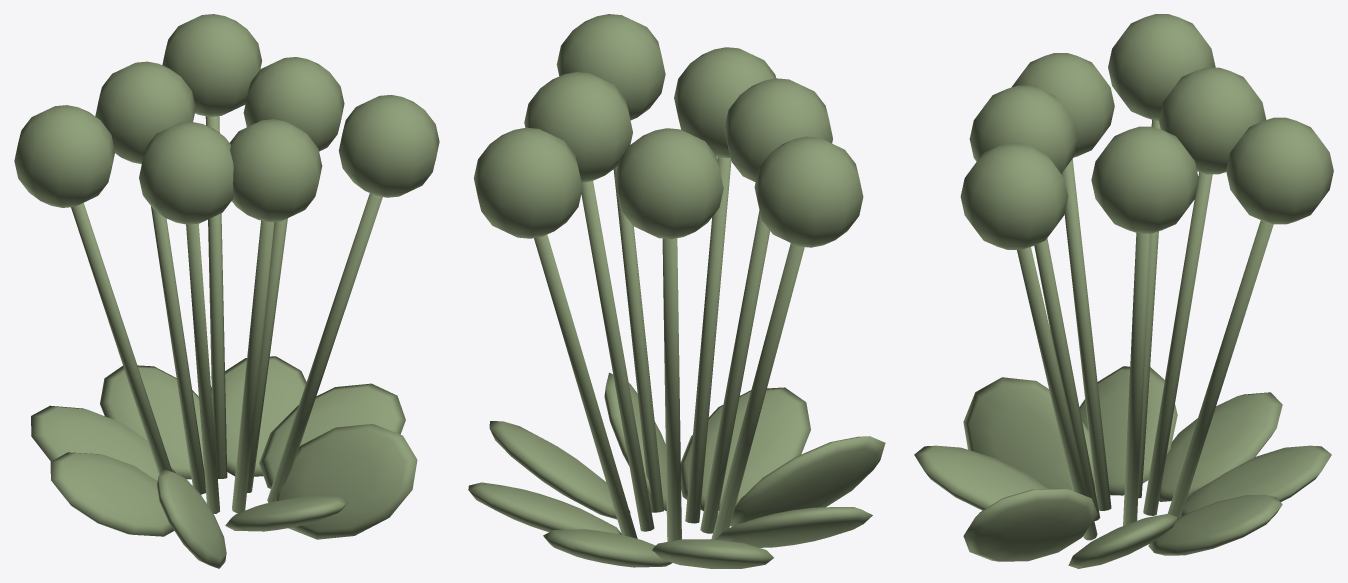
File: flowers_17.glb
3 renders of one model, left to right at view 1: azimuth 30°, elevation 25°; view 2: azimuth 150°, elevation 25°; view 3: azimuth 270°, elevation 25°, orthographic. The views are drawn at different scales.
Visible parts, largest first — view 1: Tint, Rosette leaf.057, Rosette leaf.062, Rosette leaf.061, Rosette leaf.058, Rosette leaf.060, Rosette leaf.059, Rosette leaf.063, Rosette leaf.056; view 2: Tint, Rosette leaf.063, Rosette leaf.056, Rosette leaf.058, Rosette leaf.062, Rosette leaf.059, Rosette leaf.060, Rosette leaf.061, Rosette leaf.057; view 3: Tint, Rosette leaf.063, Rosette leaf.057, Rosette leaf.061, Rosette leaf.060, Rosette leaf.056, Rosette leaf.062, Rosette leaf.059, Rosette leaf.058.
Part boxes in pixels (x1,y1,x2,y2): Tint: [14, 14, 439, 513]; Rosette leaf.057: [274, 424, 417, 539]; Rosette leaf.062: [50, 452, 174, 536]; Rosette leaf.061: [31, 405, 175, 480]; Rosette leaf.058: [259, 383, 405, 488]; Rosette leaf.060: [100, 365, 204, 479]; Rosette leaf.059: [211, 356, 306, 476]; Rosette leaf.063: [157, 469, 226, 568]; Rosette leaf.056: [225, 496, 347, 531]; Tint: [474, 14, 863, 541]; Rosette leaf.063: [730, 436, 885, 526]; Rosette leaf.056: [680, 387, 810, 510]; Rosette leaf.058: [489, 421, 630, 519]; Rosette leaf.062: [715, 507, 872, 547]; Rosette leaf.059: [468, 482, 621, 534]; Rosette leaf.060: [543, 529, 671, 567]; Rosette leaf.061: [652, 539, 773, 568]; Rosette leaf.057: [604, 372, 666, 510]; Tint: [960, 14, 1333, 540]; Rosette leaf.063: [963, 377, 1094, 490]; Rosette leaf.057: [963, 488, 1097, 561]; Rosette leaf.061: [1159, 392, 1282, 501]; Rosette leaf.060: [1181, 445, 1331, 516]; Rosette leaf.056: [914, 445, 1047, 510]; Rosette leaf.062: [1079, 366, 1177, 495]; Rosette leaf.059: [1148, 494, 1282, 555]; Rosette leaf.058: [1068, 514, 1177, 568].
Size of the model in its own units: 0.3929 by 0.45 by 0.3835.
